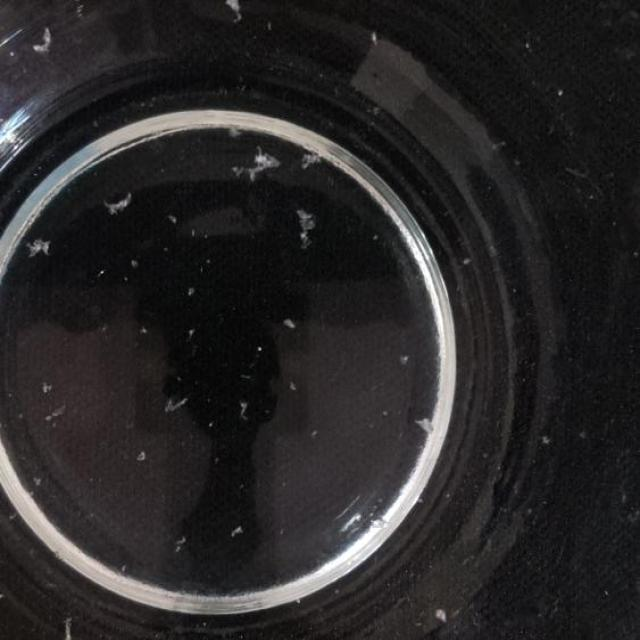fiber: (238, 149, 280, 182), (159, 392, 192, 421), (30, 24, 54, 60), (108, 196, 138, 222), (409, 412, 438, 438), (17, 237, 52, 256), (33, 374, 55, 404), (226, 0, 248, 27), (302, 208, 318, 245), (56, 610, 76, 639), (306, 145, 331, 168), (283, 310, 302, 337), (136, 440, 150, 471), (233, 398, 252, 417)
